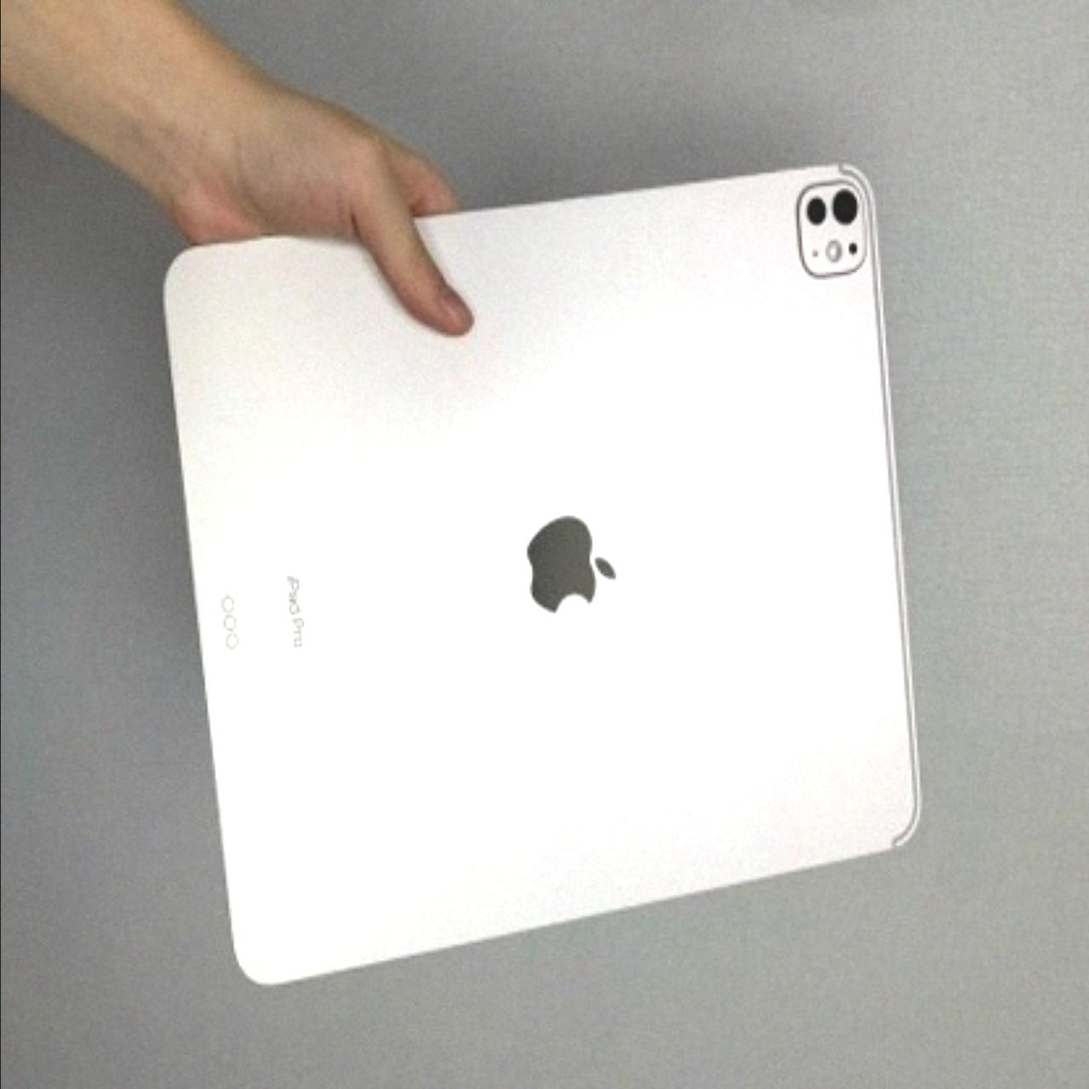Tablet_PC: (141, 152, 934, 1005)
